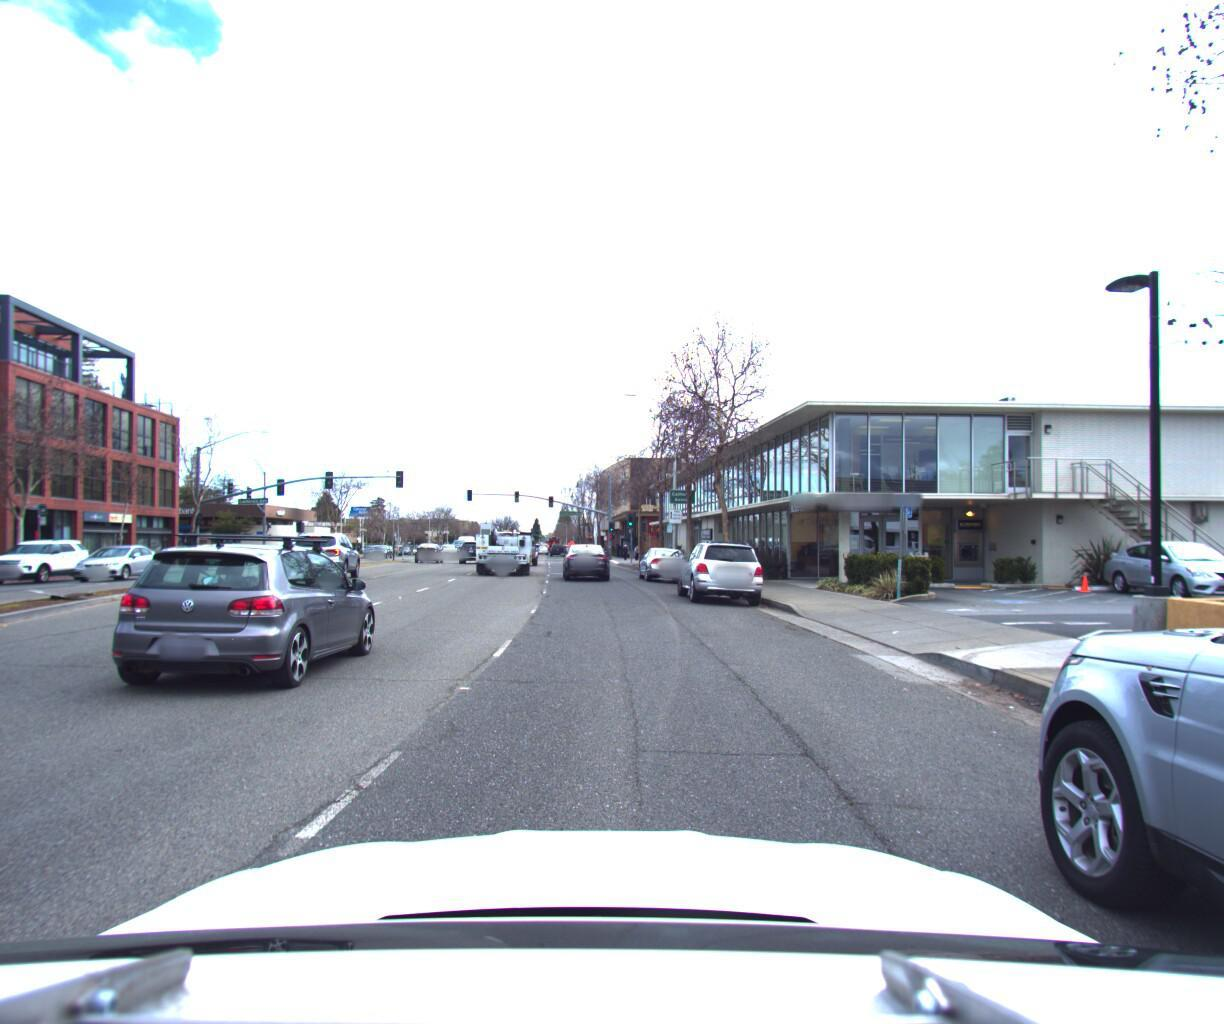car: (66, 526, 392, 703), (669, 528, 767, 600), (66, 534, 173, 575), (289, 523, 365, 575), (557, 535, 615, 576), (633, 536, 689, 576), (273, 525, 331, 560), (453, 531, 488, 556), (414, 532, 444, 554)
truck: (469, 507, 538, 569)
